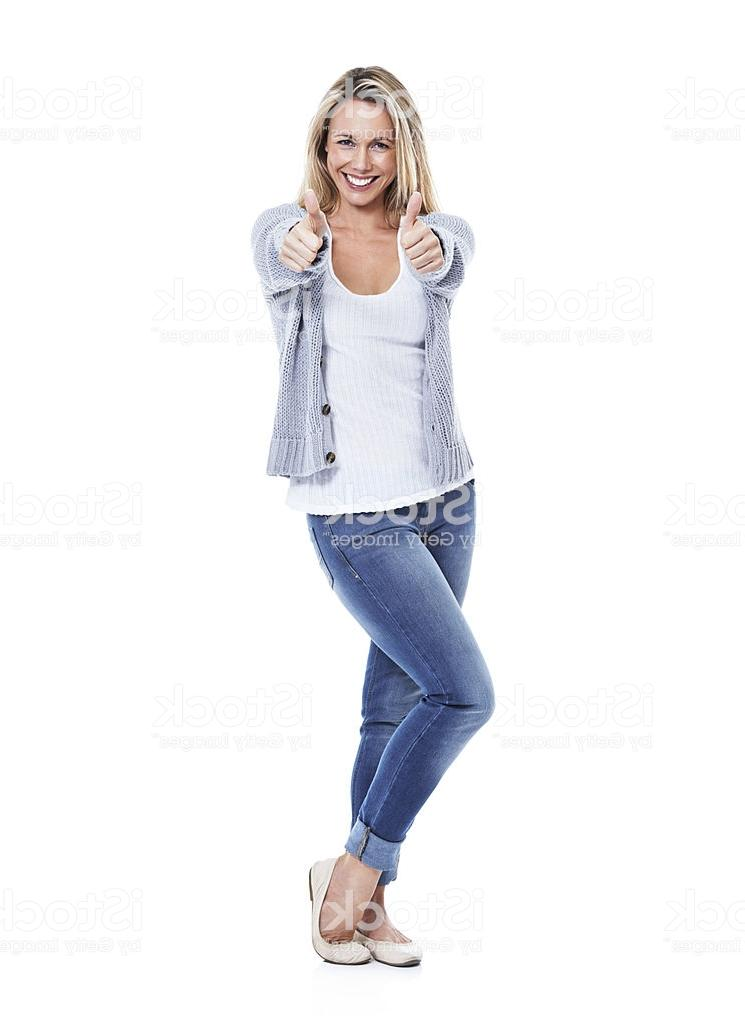thumbsup: (278, 188, 328, 272), (399, 191, 446, 276)
